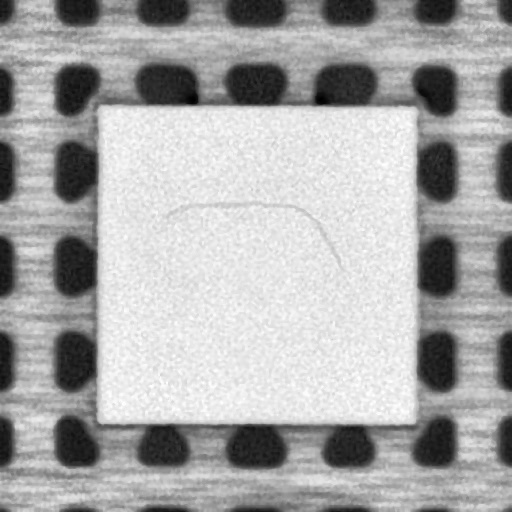DIE_CRACK: (162, 199, 346, 270)
